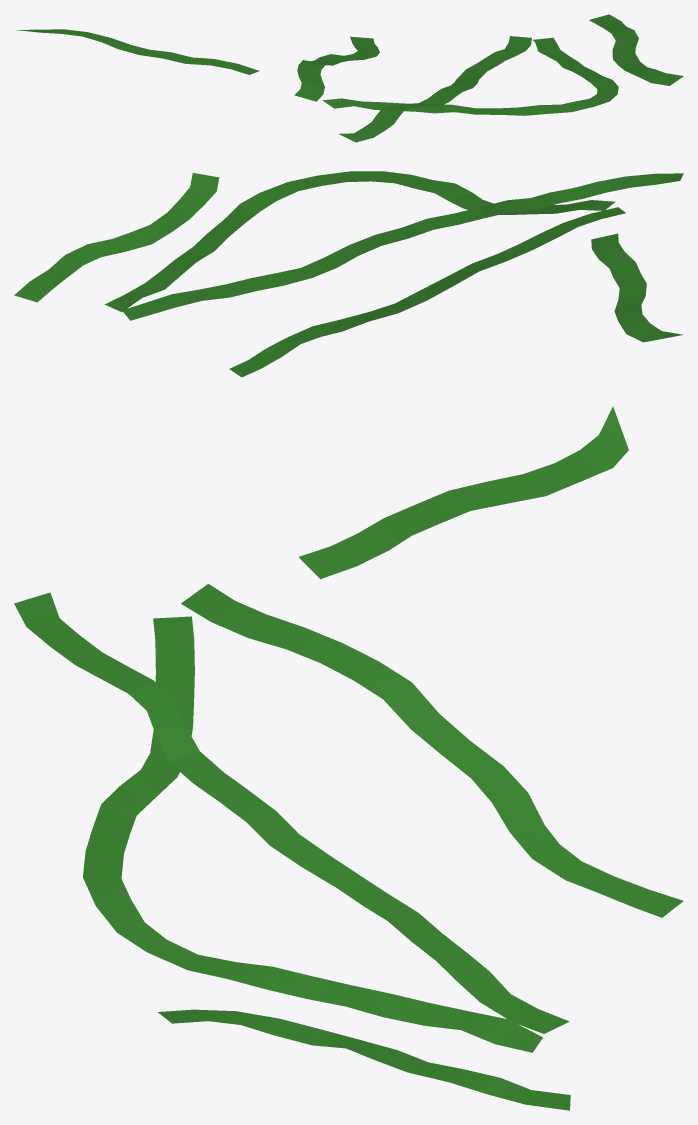
Rendered from green.obj.
3 renders of one model, top to bottom at view 1: azimuth 30°, elevation 25°; view 2: azimuth 150°, elevation 25°; view 3: azimuth 270°, elevation 25°, orthographic. The views are drawn at different scales.
Parts seen in each view (by area): view 1: bunnyfair, uncle_bob_s, snail, summer_road, foxtail, little_hawk, easyway; view 2: bunnyfair, snail, uncle_bob_s, summer_road, little_hawk, foxtail, easyway; view 3: bunnyfair, snail, summer_road, little_hawk, foxtail, uncle_bob_s, easyway.
Boxes of the visible parts, <box> form: bunnyfair: <box>339,36,531,142</box>; uncle_bob_s: <box>589,14,683,85</box>; snail: <box>294,36,379,101</box>; summer_road: <box>16,29,259,74</box>; foxtail: <box>476,87,618,115</box>; little_hawk: <box>533,37,618,89</box>; easyway: <box>322,98,476,114</box>; bunnyfair: <box>122,173,683,320</box>; snail: <box>229,207,625,377</box>; uncle_bob_s: <box>14,173,219,302</box>; summer_road: <box>591,233,683,342</box>; little_hawk: <box>104,193,276,311</box>; foxtail: <box>259,171,471,201</box>; easyway: <box>449,192,615,214</box>; bunnyfair: <box>14,592,569,1033</box>; snail: <box>181,584,683,917</box>; summer_road: <box>299,406,628,578</box>; little_hawk: <box>188,954,542,1052</box>; foxtail: <box>83,786,197,970</box>; uncle_bob_s: <box>158,1009,570,1110</box>; easyway: <box>120,616,194,799</box>.
Size of the model in its own units: 14.38 by 2.79 by 8.17.
